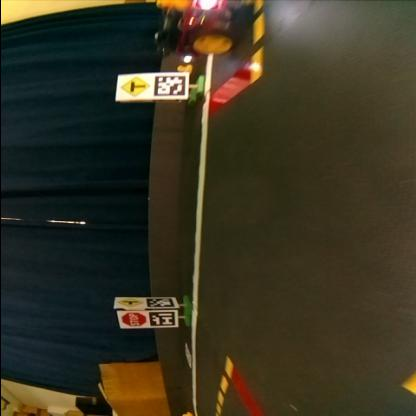Duckie: (176, 65, 190, 72)
Duckiebot: (153, 2, 235, 56)
Intersection sign: (116, 76, 148, 100), (114, 298, 140, 310)
QR code: (152, 74, 182, 97), (148, 314, 175, 326), (144, 300, 173, 308), (183, 344, 191, 368)
Stop sign: (118, 312, 144, 328)
